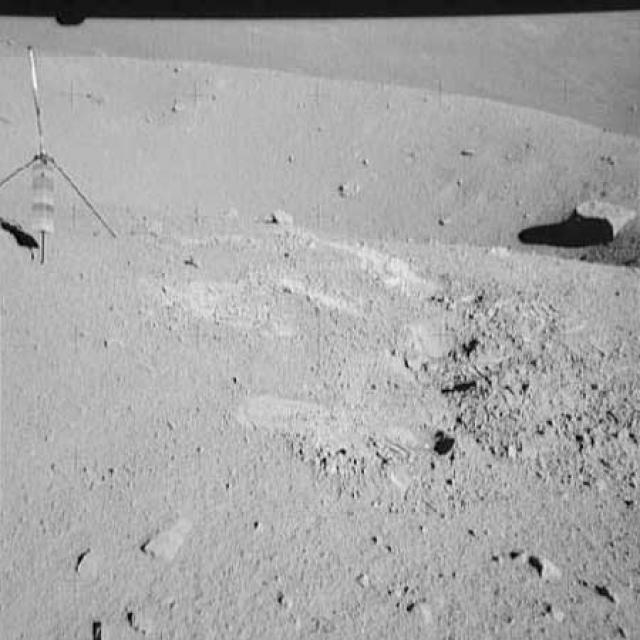artifact: (0, 39, 117, 263)
crater: (0, 41, 639, 265)
rock: (555, 190, 638, 242), (121, 514, 199, 564), (512, 541, 568, 588)
